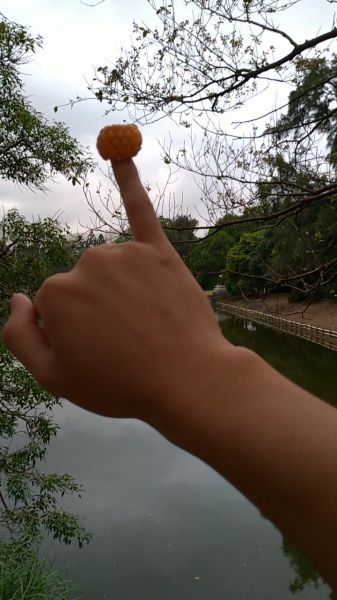eggs: (96, 124, 142, 161)
